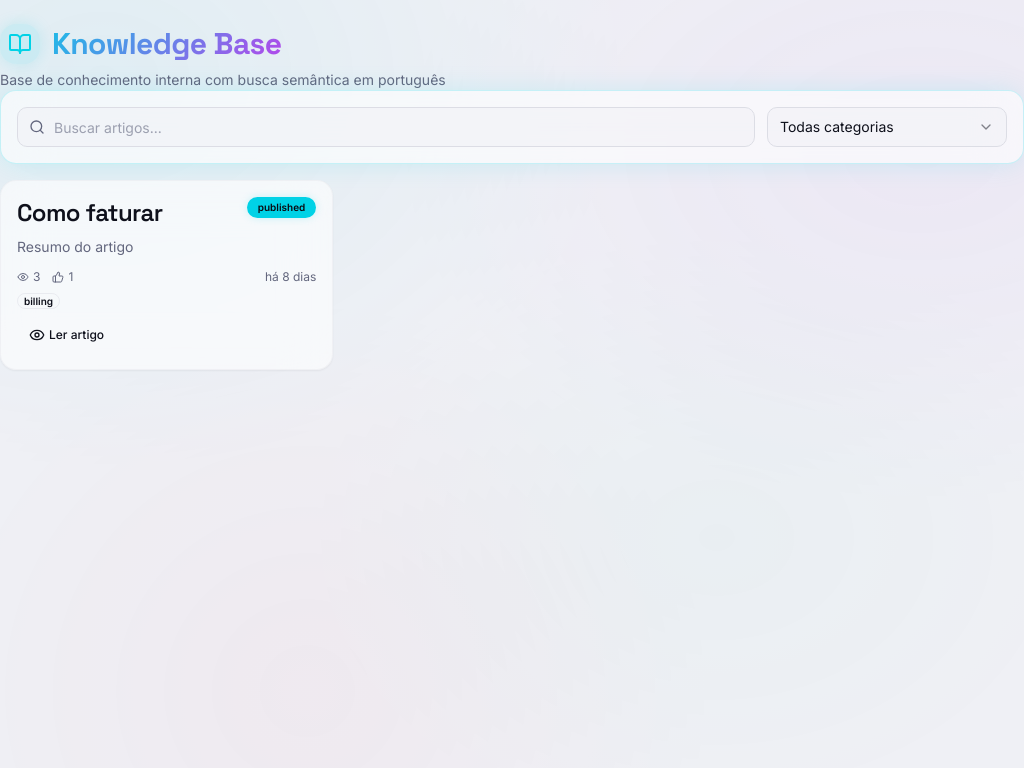
Test: Knowledge — leitura do artigo (etapa 153) › mostra o erro de carregamento com opcao de tentar de novo
Click the button with aria-label "Ler artigo Como faturar": coordinates (77, 334) [17, 317, 316, 353]
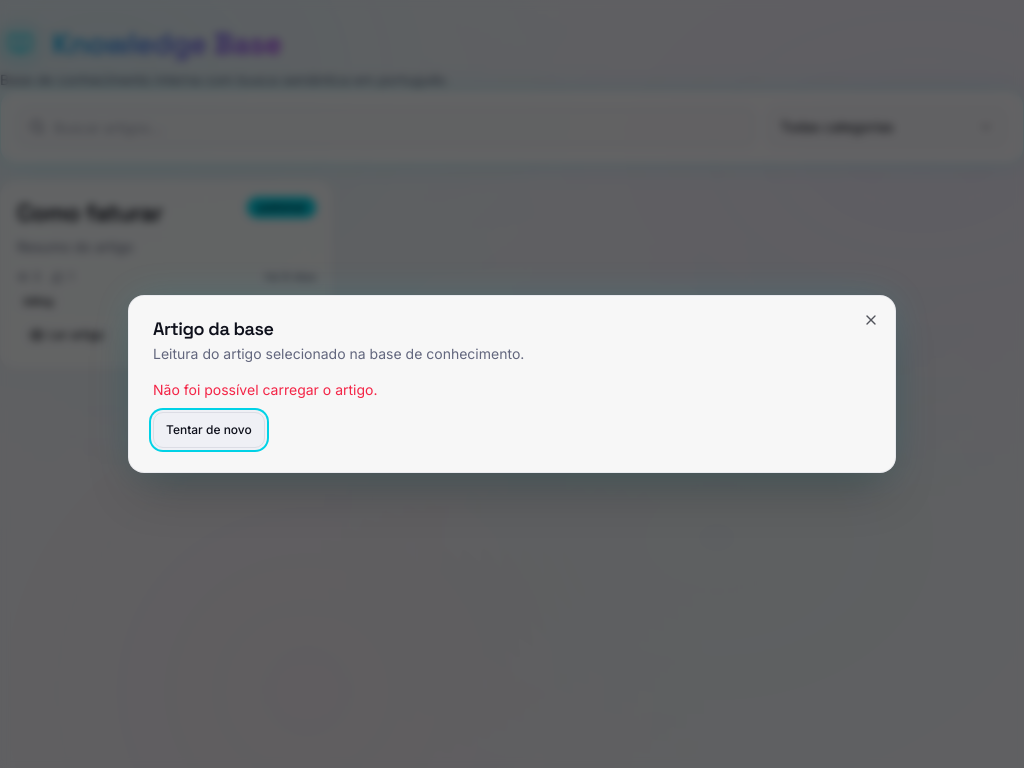
Expected: the text "Não foi possível carregar o artigo." is shown, [153, 381, 378, 398]
Expected: the button "Tentar de novo" is shown, [153, 412, 265, 448]
